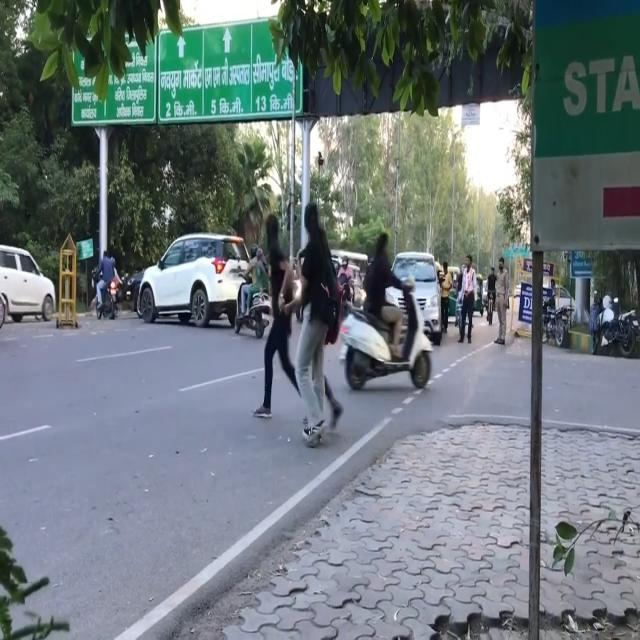Scooty: (345, 278, 436, 389)
